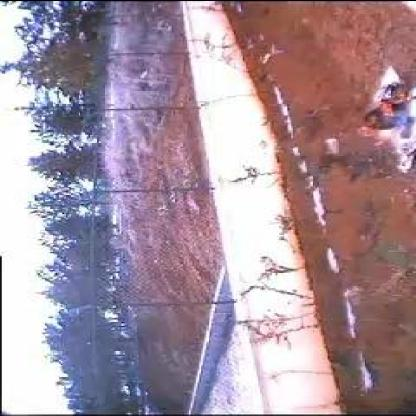-: (348, 150, 370, 171)
foggia-v2-map80-epoch100 - v1 4323: (358, 126, 388, 146)
